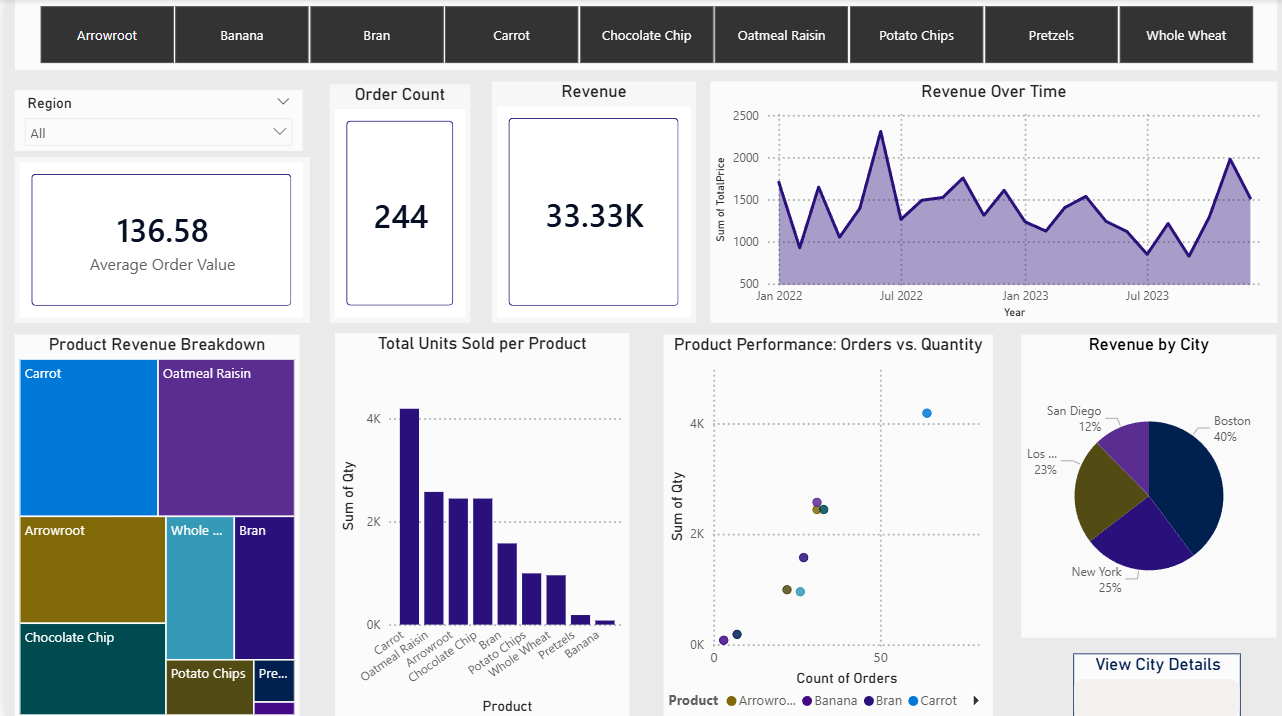

This screenshot's page, from the dashboard's own definition file:
{"tool":"powerbi","page":{"name":"Main","canvas":[1280,720],"ordinal":0},"visuals":[{"type":"slicer","fields":{"Values":["FoodSales.Product"]},"box":[9.8,0,1262.5,71.2],"z":1000},{"type":"slicer","fields":{"Values":["FoodSales.Region"]},"box":[9.8,90.8,287.7,61.5],"z":2000},{"type":"lineChart","title":"Revenue Over Time","fields":{"Category":["FoodSales.Date.Variation.Date Hierarchy.Year","FoodSales.Date.Variation.Date Hierarchy.Month"],"Y":["Sum(FoodSales.TotalPrice)"]},"box":[705.3,82.4,567,241.6],"z":3000},{"type":"scatterChart","title":"Product Performance: Orders vs. Quantity","fields":{"X":["FoodSales.ID"],"Series":["FoodSales.Product"],"Y":["FoodSales.Qty"]},"box":[659.2,335.2,329.6,385.5],"z":4000},{"type":"treemap","title":"Product Revenue Breakdown","fields":{"Group":["FoodSales.Product"],"Values":["Sum(FoodSales.TotalPrice)"]},"box":[9.7,335.2,284.9,385.5],"z":5000},{"type":"pieChart","title":"Revenue by City","fields":{"Category":["FoodSales.City"],"Y":["Sum(FoodSales.TotalPrice)"]},"box":[1016.7,335.2,255.6,303.1],"z":6000},{"type":"cardVisual","title":"Revenue","fields":{"Data":["Sum(FoodSales.TotalPrice)"]},"box":[486.7,82.2,204.7,241.8],"z":7000},{"type":"cardVisual","title":"Order Count","fields":{"Data":["Count(FoodSales.ID)"]},"box":[325.2,85.1,141.1,238.8],"z":8000},{"type":"cardVisual","fields":{"Data":["FoodSales.Average Order Value"]},"box":[9.7,158,294.9,166],"z":9000},{"type":"columnChart","title":"Total Units Sold per Product","fields":{"Category":["FoodSales.Product"],"Y":["Sum(FoodSales.Qty)"]},"box":[329.6,334.5,294.7,385.5],"z":10000},{"type":"actionButton","title":"View City Details","box":[1068.4,655,167.6,65.6],"z":11000}]}

Visuals, with their boxes in screenshot pixels (x1, y1, x2, y2), scaled from the page's 1280x720 canvas onto the 1282x716 screenshot:
slicer - FoodSales.Product: [left=10, top=0, right=1274, bottom=71]
slicer - FoodSales.Region: [left=10, top=90, right=298, bottom=151]
"Revenue Over Time" lineChart: [left=706, top=82, right=1274, bottom=322]
"Product Performance: Orders vs. Quantity" scatterChart: [left=660, top=333, right=990, bottom=715]
"Product Revenue Breakdown" treemap: [left=10, top=333, right=295, bottom=715]
"Revenue by City" pieChart: [left=1018, top=333, right=1274, bottom=635]
"Revenue" cardVisual: [left=487, top=82, right=692, bottom=322]
"Order Count" cardVisual: [left=326, top=85, right=467, bottom=322]
cardVisual - FoodSales.Average Order Value: [left=10, top=157, right=305, bottom=322]
"Total Units Sold per Product" columnChart: [left=330, top=333, right=625, bottom=715]
"View City Details" actionButton: [left=1070, top=651, right=1238, bottom=715]
